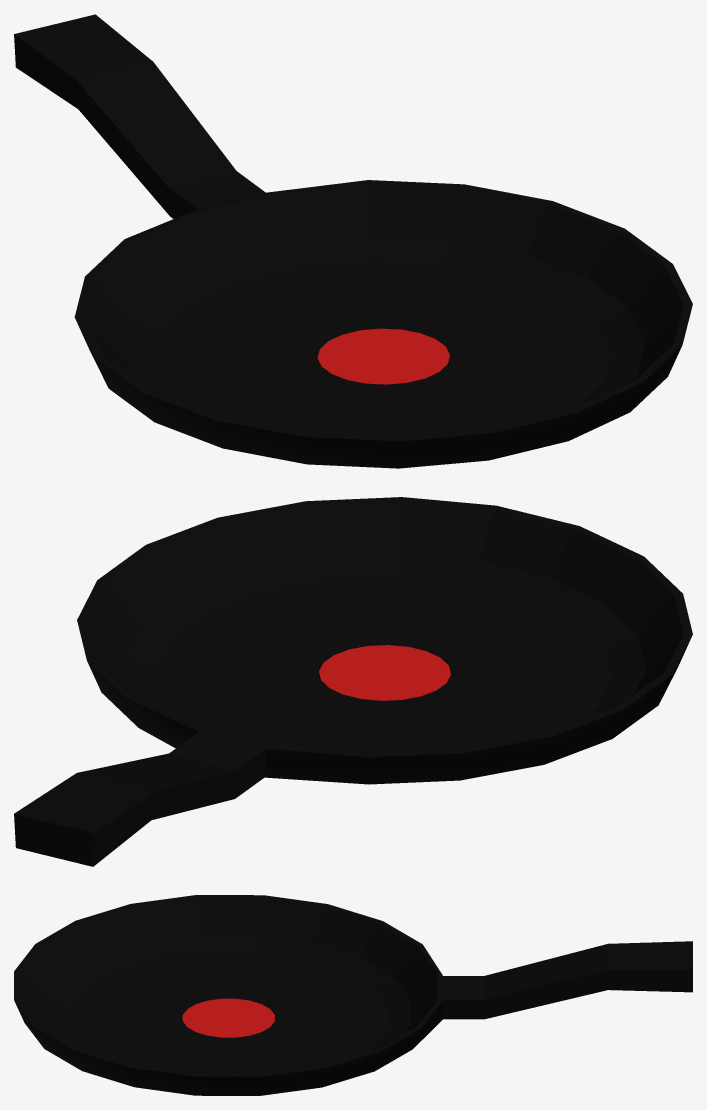
The model's file is Pan.FBX.
The picture shows the model from 3 angles, top to bottom: view 1: azimuth 30°, elevation 25°; view 2: azimuth 150°, elevation 25°; view 3: azimuth 270°, elevation 25°; orthographic projection. The views are drawn at different scales.
Parts seen in each view (by area): view 1: Pan; view 2: Pan; view 3: Pan.
Part boxes in pixels (bbox=[...]): Pan: bbox=[14, 14, 692, 468]; Pan: bbox=[14, 497, 692, 866]; Pan: bbox=[14, 895, 692, 1095].
Bounding box in the file's own units: 59.28 × 11.56 × 93.69.
